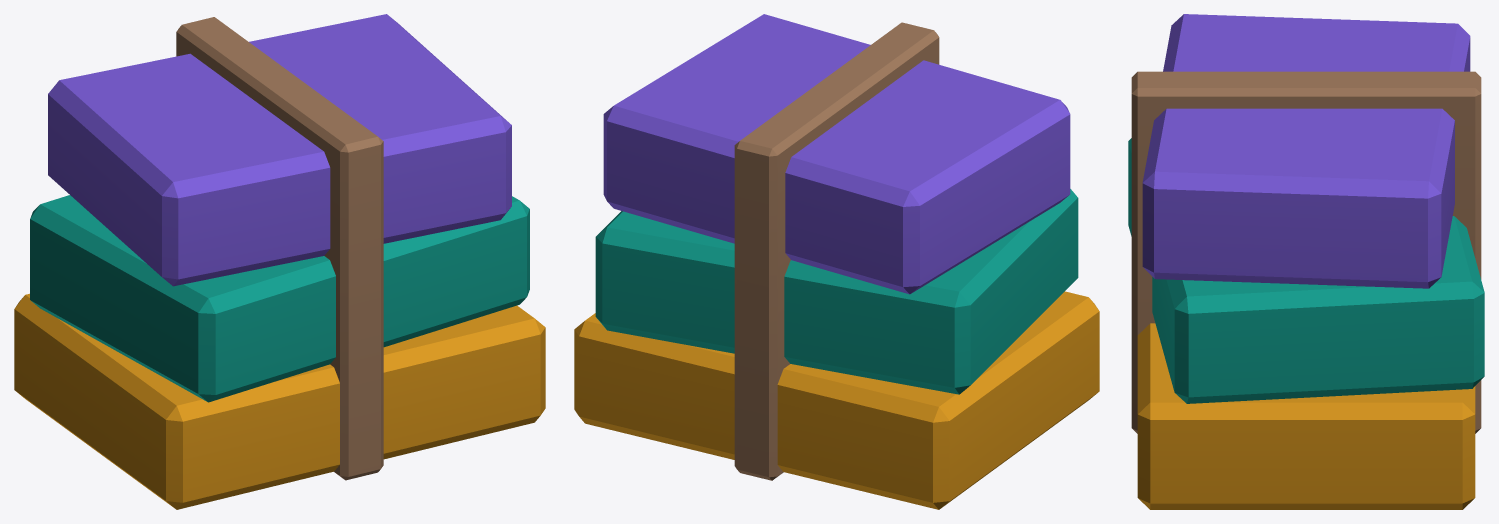
The model's file is book-stack.glb.
3 views of the same model, side by side, from view 1: azimuth 30°, elevation 25°; view 2: azimuth 150°, elevation 25°; view 3: azimuth 270°, elevation 25° (orthographic). The views are drawn at different scales.
Parts seen in each view (by area): view 1: book-stack; view 2: book-stack; view 3: book-stack.
Part boxes in pixels (x1,y1,x2,y2): book-stack: (14,14,545,509); book-stack: (574,14,1099,509); book-stack: (1128,14,1484,509).
Size of the model in its own units: 0.36 by 0.3 by 0.28.
